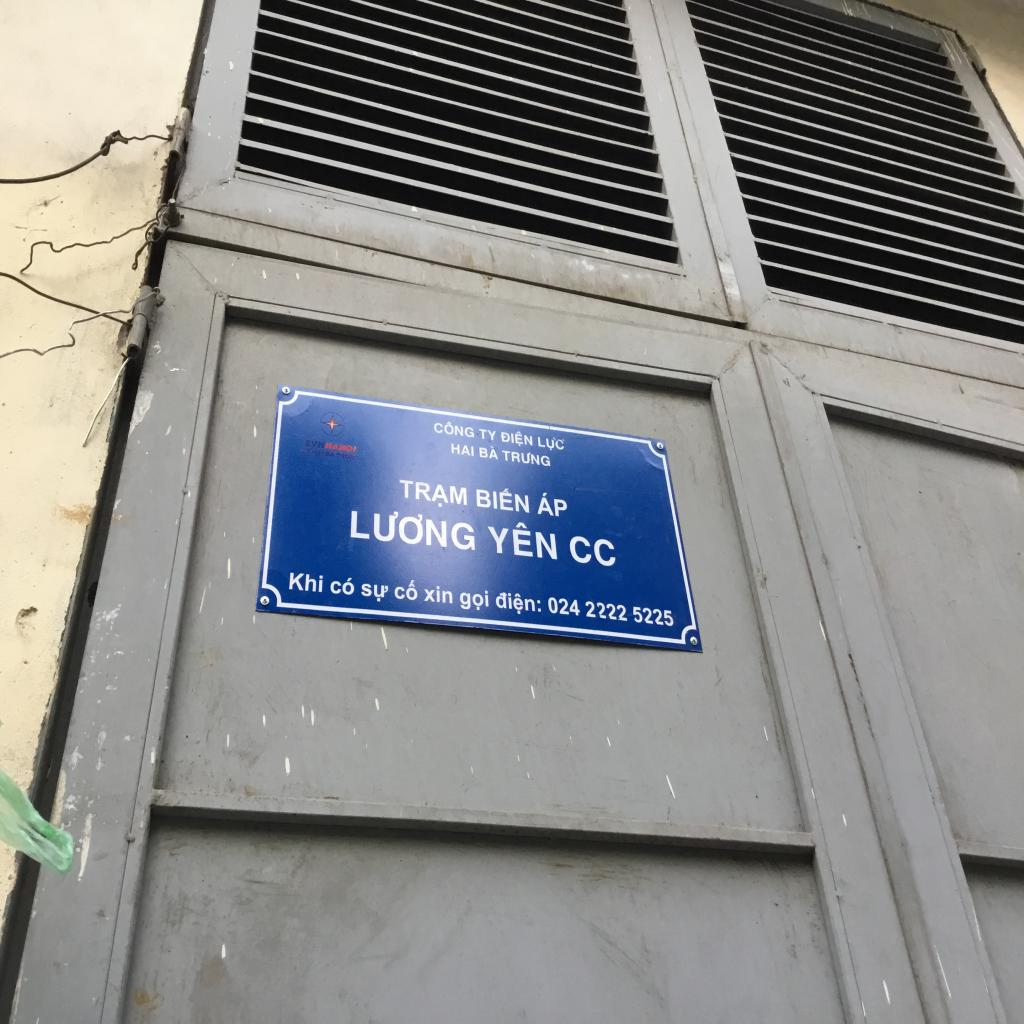text: (348, 503, 477, 556), (485, 515, 560, 564), (398, 476, 469, 510), (566, 530, 618, 572), (473, 484, 531, 516), (494, 587, 543, 619), (583, 598, 630, 624), (500, 446, 552, 468), (456, 585, 492, 614), (286, 569, 326, 594), (432, 418, 476, 440), (535, 489, 568, 518), (358, 578, 390, 604), (423, 583, 454, 608), (548, 593, 580, 617), (498, 430, 534, 449), (329, 574, 356, 598), (394, 578, 418, 604), (536, 432, 565, 453), (449, 441, 475, 460), (478, 443, 498, 462), (304, 436, 325, 450), (478, 426, 496, 441), (338, 442, 358, 454), (325, 440, 339, 449), (336, 452, 351, 460), (313, 448, 326, 456), (325, 450, 336, 458)
